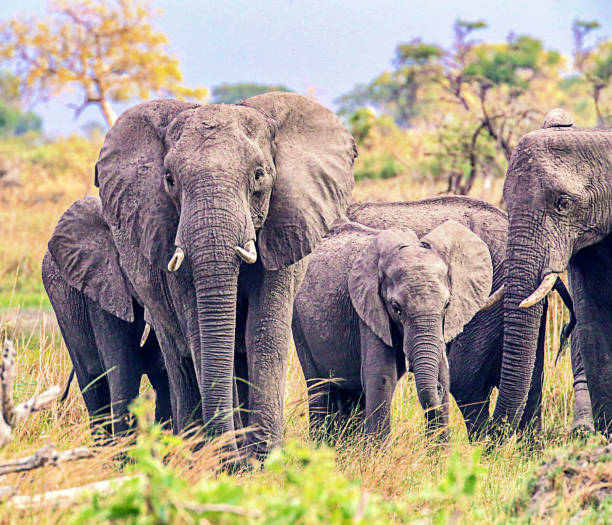africanelephant: (481, 136, 582, 347), (160, 106, 271, 291), (363, 252, 464, 360)
